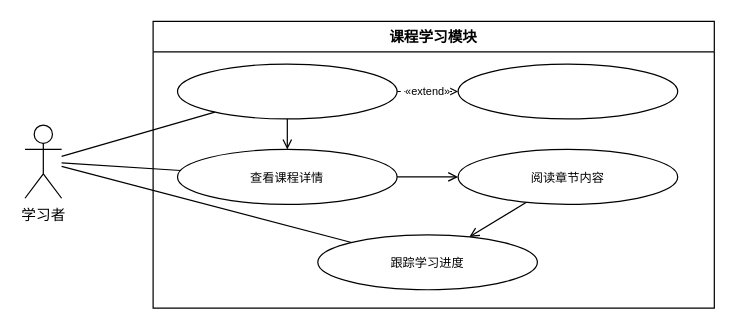
This 736x329 diagram has some shape labels left out. Here are the shapes that lost their labels. From the top down, the box of each, then its label:
(176, 63, 397, 119): 浏览课程列表
(457, 63, 678, 119): 搜索/筛选课程
